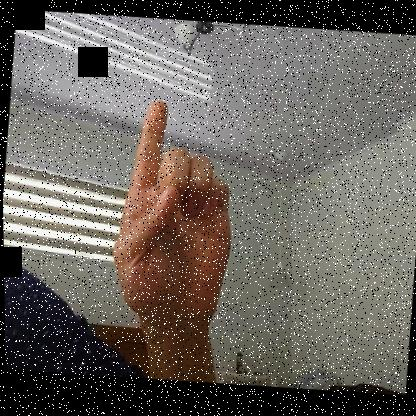D: (104, 98, 244, 331)
